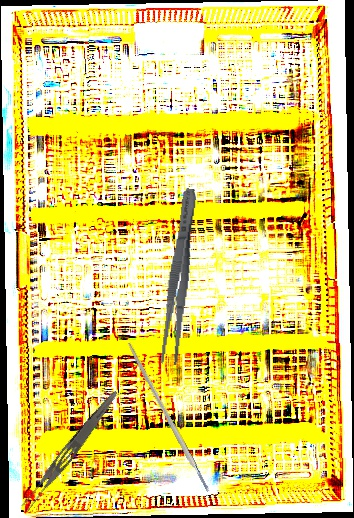Dressing Forceps: (18, 385, 121, 515), (157, 187, 202, 366)
Scalpel Handle: (125, 341, 211, 494)
